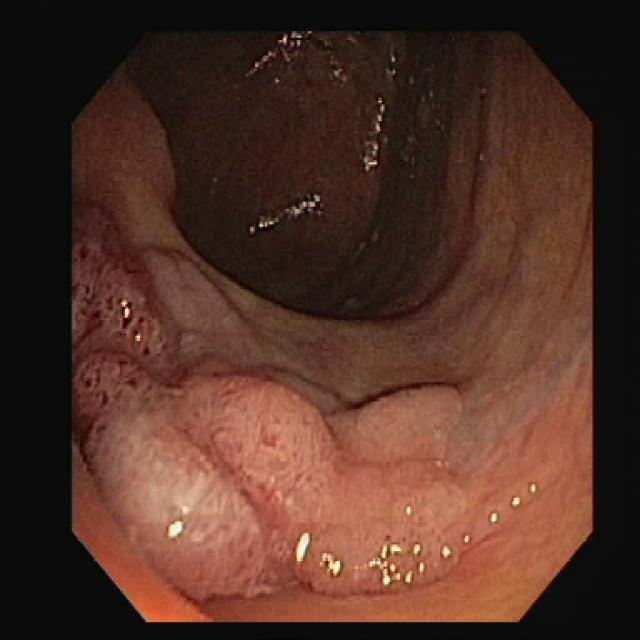tumor: (73, 211, 523, 596)
